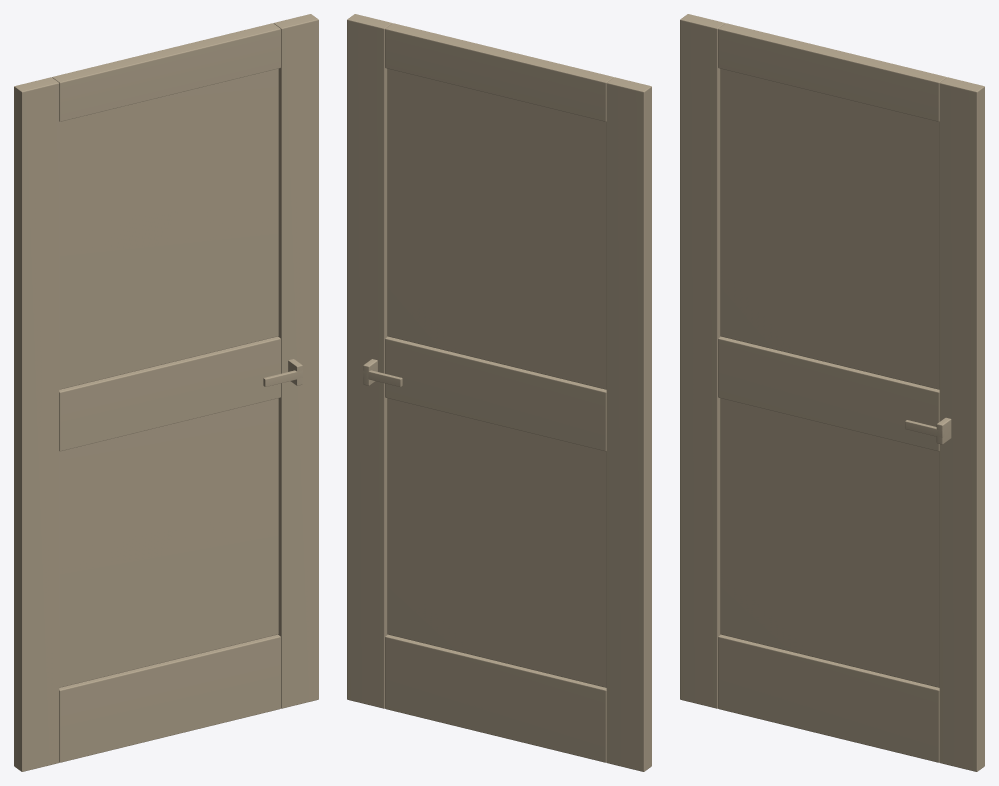
The model's file is door.glb.
3 renders of one model, left to right at view 1: azimuth 30°, elevation 25°; view 2: azimuth 150°, elevation 25°; view 3: azimuth 330°, elevation 25°, orthographic.
Parts seen in each view (by area): view 1: door; view 2: door; view 3: door.
Part boxes in pixels (x1,y1,x2,y2): door: (14, 14, 318, 771); door: (347, 14, 651, 771); door: (680, 14, 984, 771).
Bounding box in the file's own units: 0.94 × 2.06 × 0.145.
